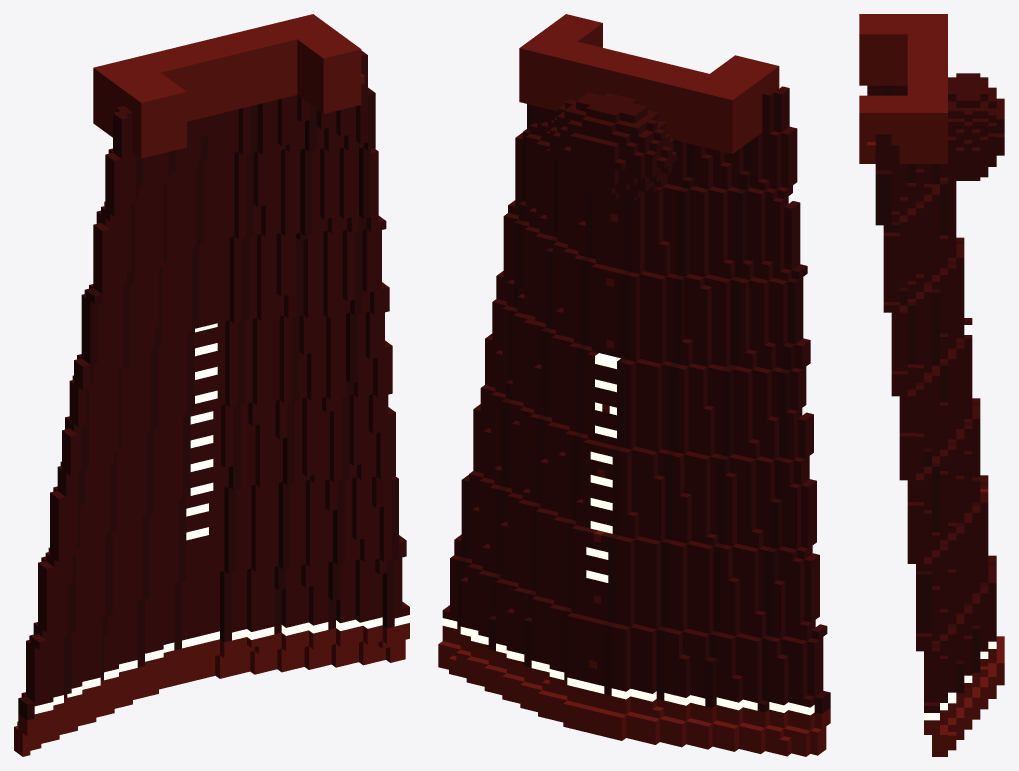
File: cloth_masterwork_cloak.glb
The picture shows the model from 3 angles, left to right: view 1: azimuth 30°, elevation 25°; view 2: azimuth 150°, elevation 25°; view 3: azimuth 270°, elevation 25°; orthographic projection. The views are drawn at different scales.
Parts seen in each view (by area): view 1: cloth_masterwork_cloak; view 2: cloth_masterwork_cloak; view 3: cloth_masterwork_cloak.
Boxes of the visible parts, left/top/right/bottom form: cloth_masterwork_cloak: left=14, top=14, right=409, bottom=756; cloth_masterwork_cloak: left=438, top=14, right=830, bottom=756; cloth_masterwork_cloak: left=859, top=14, right=1004, bottom=756.
Size of the model in its own units: 0.612 by 0.996 by 0.216.
